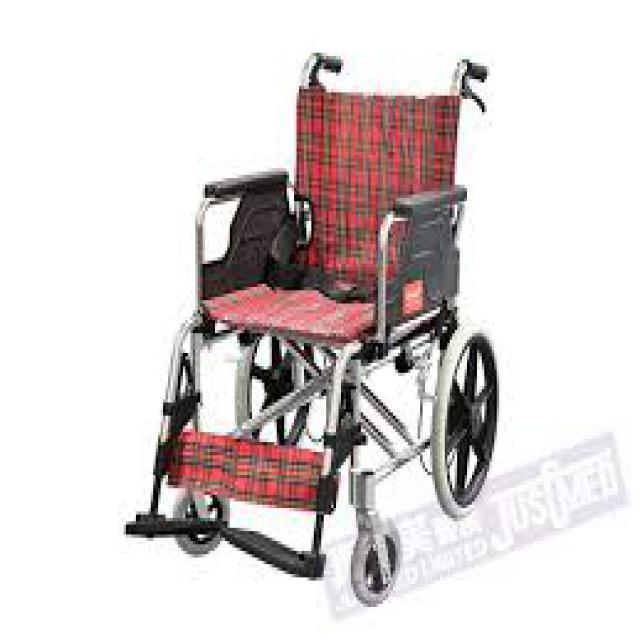wheelchairs: (131, 48, 495, 607)
